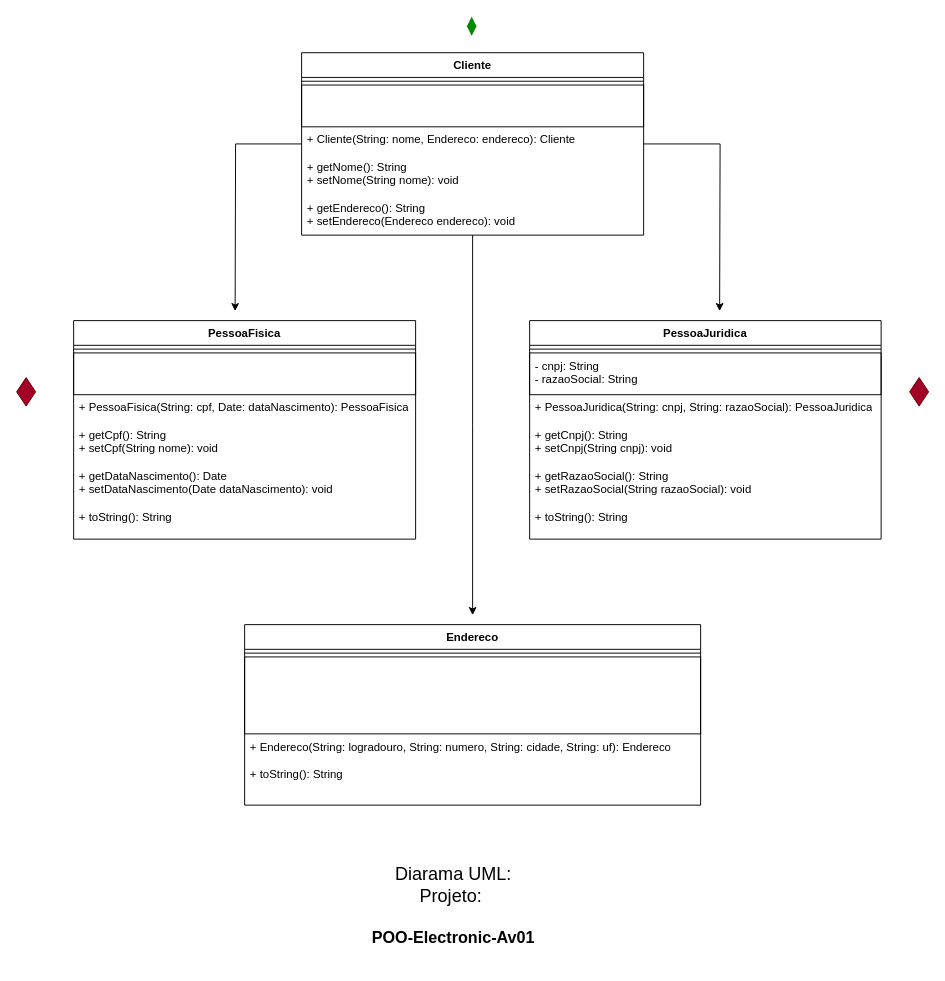
Some shapes in this 945 by 981 pixel diagram are drawn without their labels. The shapes that lost their labels are listed below. From the top down, each one's box as (x1, y1, x2, y2) in pixels, then its label:
(301, 84, 644, 127): - nome: String - endereco: Endereco
(73, 352, 416, 395): - cpf: String - dataNascimento: Date
(244, 656, 701, 734): - logradouro: String - numero: String - cidade: String - uf: String
